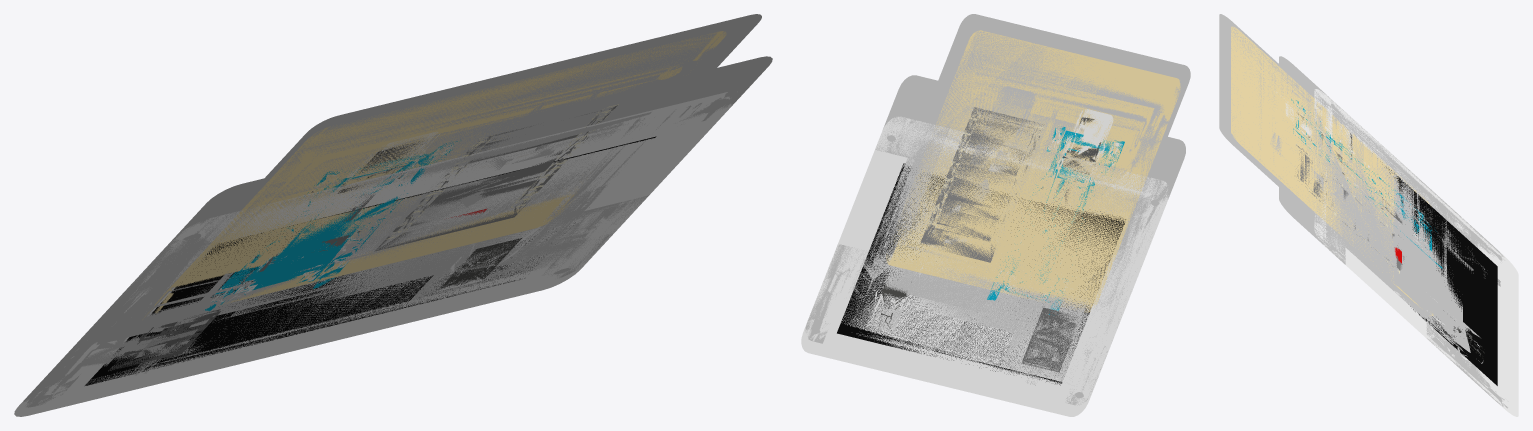
The model's file is e-ink.glb.
3 renders of one model, left to right at view 1: azimuth 30°, elevation 25°; view 2: azimuth 150°, elevation 25°; view 3: azimuth 270°, elevation 25°, orthographic. The views are drawn at different scales.
Parts seen in each view (by area): view 1: EINK-1 v85 (×16), e-inkscreen v4 (×6), LiPo-6-34-53 v1 (×4), board (×2), ESP32-C3 supermini v5 v1 (×3); view 2: LiPo-6-34-53 v1 (×4), e-inkscreen v4 (×6), EINK-1 v85 (×27), ESP32-C3 supermini v5 v1 (×3), board (×2), USB_Type_C_Connector, slide-switch v3; view 3: EINK-1 v85 (×9), LiPo-6-34-53 v1 (×3), e-inkscreen v4 (×4), board, ESP32-C3 supermini v5 v1.
Boxes of the visible parts, box(x1,y1,x2,y2) form: EINK-1 v85 (×16): box(52, 14, 771, 369); e-inkscreen v4 (×6): box(14, 92, 730, 416); LiPo-6-34-53 v1 (×4): box(168, 32, 725, 305); board (×2): box(205, 144, 444, 309); ESP32-C3 supermini v5 v1 (×3): box(374, 105, 617, 251); LiPo-6-34-53 v1 (×4): box(886, 30, 1180, 311); e-inkscreen v4 (×6): box(802, 117, 1168, 416); EINK-1 v85 (×27): box(805, 14, 1190, 405); ESP32-C3 supermini v5 v1 (×3): box(922, 86, 1042, 262); board (×2): box(987, 127, 1124, 309); USB_Type_C_Connector: box(1074, 109, 1109, 148); slide-switch v3: box(1023, 336, 1069, 366); EINK-1 v85 (×9): box(1219, 15, 1488, 379); LiPo-6-34-53 v1 (×3): box(1231, 26, 1433, 315); e-inkscreen v4 (×4): box(1314, 89, 1518, 416); board: box(1295, 118, 1429, 233); ESP32-C3 supermini v5 v1: box(1296, 144, 1394, 259).
Size of what is drawn, in the model's own units: 0.0715 by 0.0591 by 0.0591.
